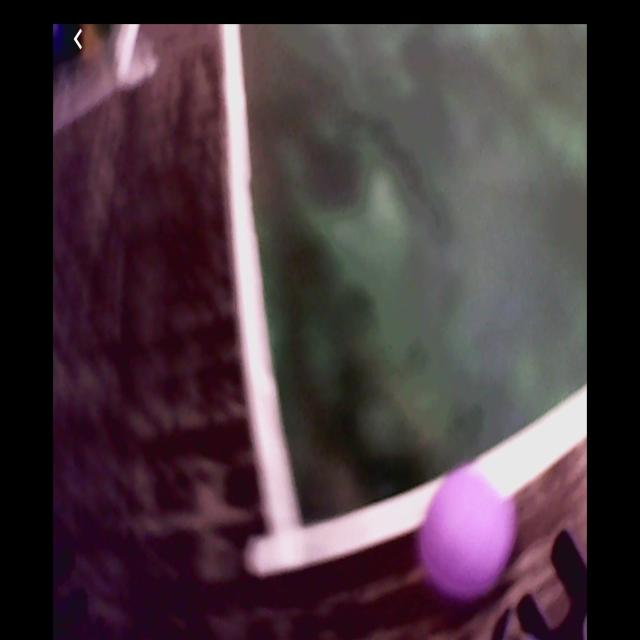ball: (415, 467, 521, 608)
